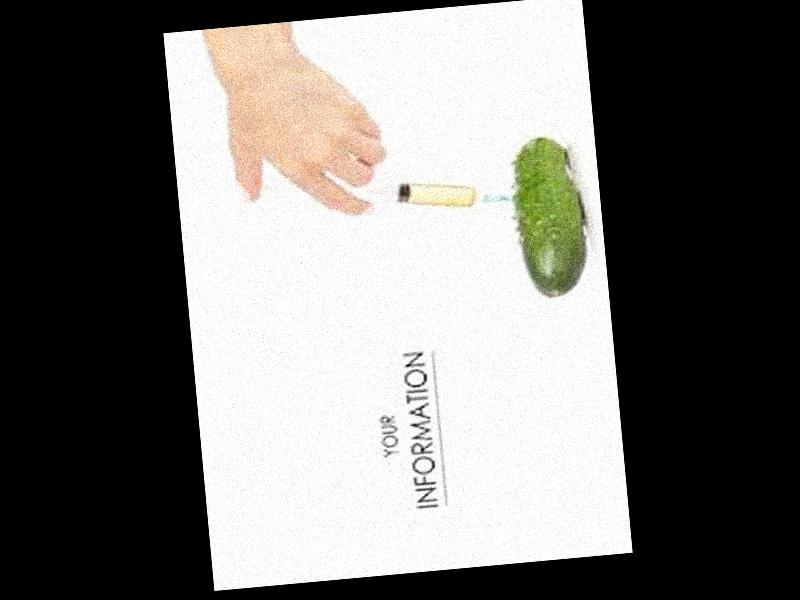Cucumber: (507, 132, 587, 299)
